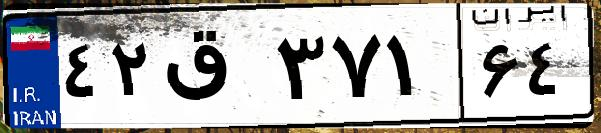1: (385, 28, 445, 110)
2: (110, 28, 158, 98)
3: (270, 28, 330, 110)
4: (57, 26, 110, 100), (525, 38, 570, 115)
6: (475, 38, 525, 113)
7: (330, 28, 385, 110)
ق: (158, 20, 270, 120)
